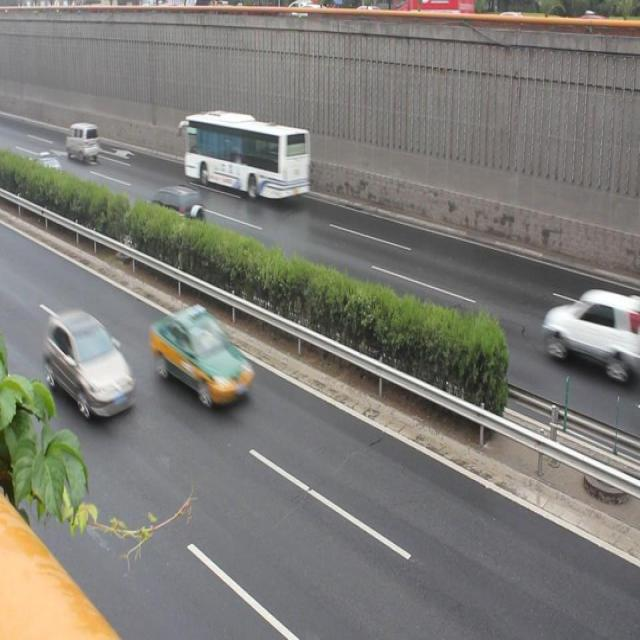car: (148, 309, 255, 409), (44, 303, 132, 418), (536, 287, 630, 370), (145, 180, 206, 235), (29, 147, 68, 190)
truck: (64, 118, 103, 162)
van: (179, 108, 311, 208)
